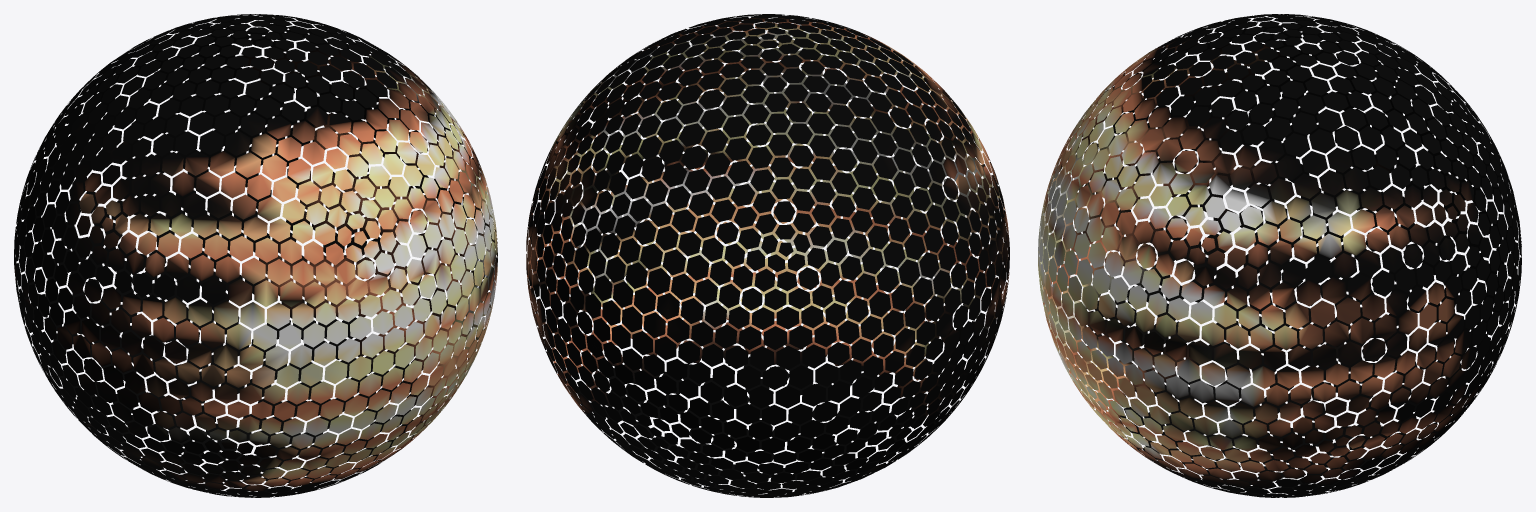
The model's file is plasma_earth.fbx.
The picture shows the model from 3 angles, left to right: view 1: azimuth 30°, elevation 25°; view 2: azimuth 150°, elevation 25°; view 3: azimuth 270°, elevation 25°; orthographic projection.
Visible parts, largest first — view 1: plasma_earth; view 2: plasma_earth; view 3: plasma_earth.
Boxes of the visible parts, left/top/right/bottom form: plasma_earth: left=14, top=14, right=497, bottom=497; plasma_earth: left=526, top=14, right=1009, bottom=497; plasma_earth: left=1038, top=14, right=1521, bottom=497.
Size of the model in its own units: 199 by 199 by 199.
